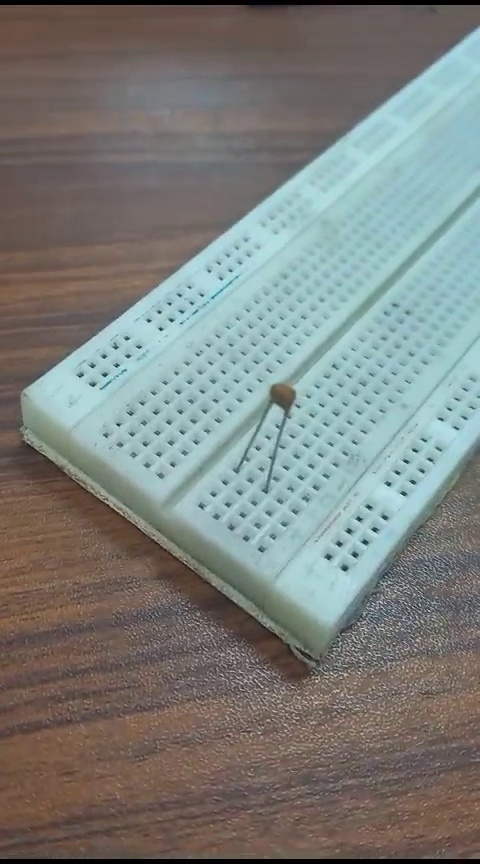ceramic capacitor: (254, 383, 310, 484)
